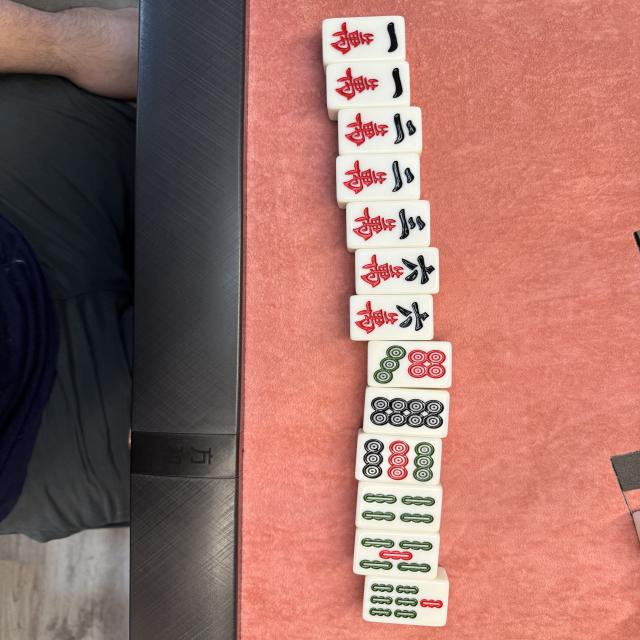sd1: (355, 434, 443, 485), (362, 578, 449, 627), (364, 388, 449, 438), (336, 153, 420, 201), (346, 200, 430, 248), (356, 486, 442, 532), (367, 341, 451, 388), (354, 532, 439, 578), (338, 106, 422, 152), (355, 248, 439, 294), (350, 294, 433, 340), (327, 61, 409, 107), (322, 16, 404, 61)
